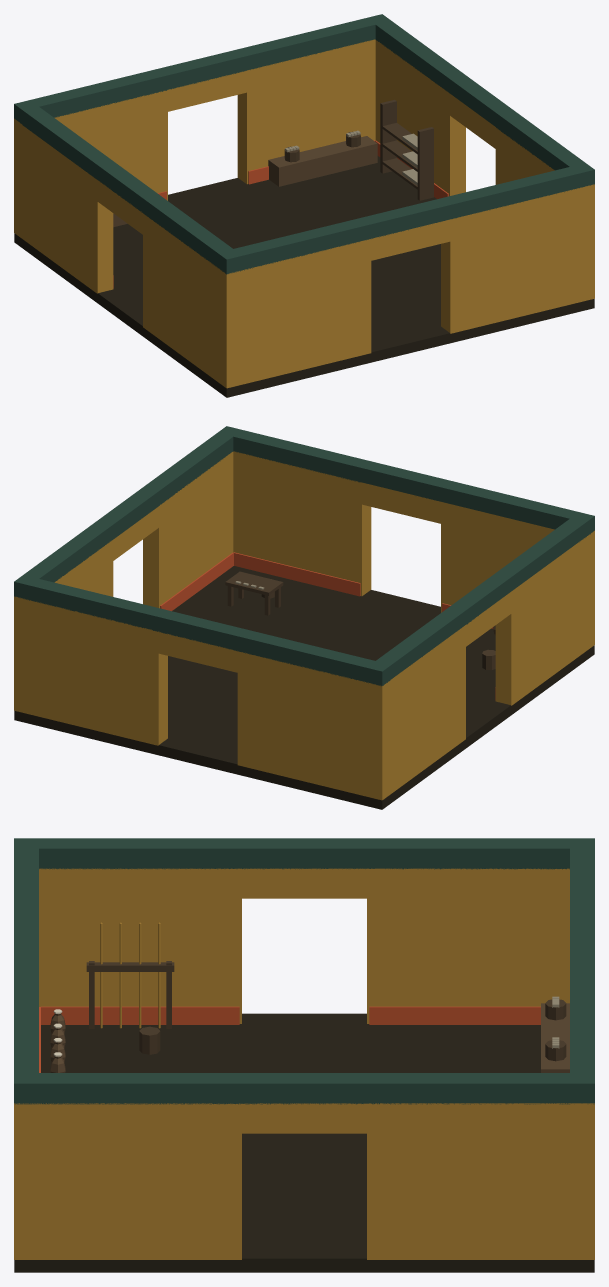
Rendered from BronzeTabletArchive.fbx.
The picture shows the model from 3 angles, top to bottom: view 1: azimuth 30°, elevation 25°; view 2: azimuth 150°, elevation 25°; view 3: azimuth 270°, elevation 25°; orthographic projection. The views are drawn at different scales.
Parts seen in each view (by area): view 1: BronzeTabletArchive; view 2: BronzeTabletArchive; view 3: BronzeTabletArchive.
Part boxes in pixels (x1,y1,x2,y2): BronzeTabletArchive: [14, 14, 594, 397]; BronzeTabletArchive: [14, 426, 594, 809]; BronzeTabletArchive: [14, 838, 594, 1272].
Bounding box in the file's own units: 1202 × 432 × 1202.
8 materials, 8 textured.
